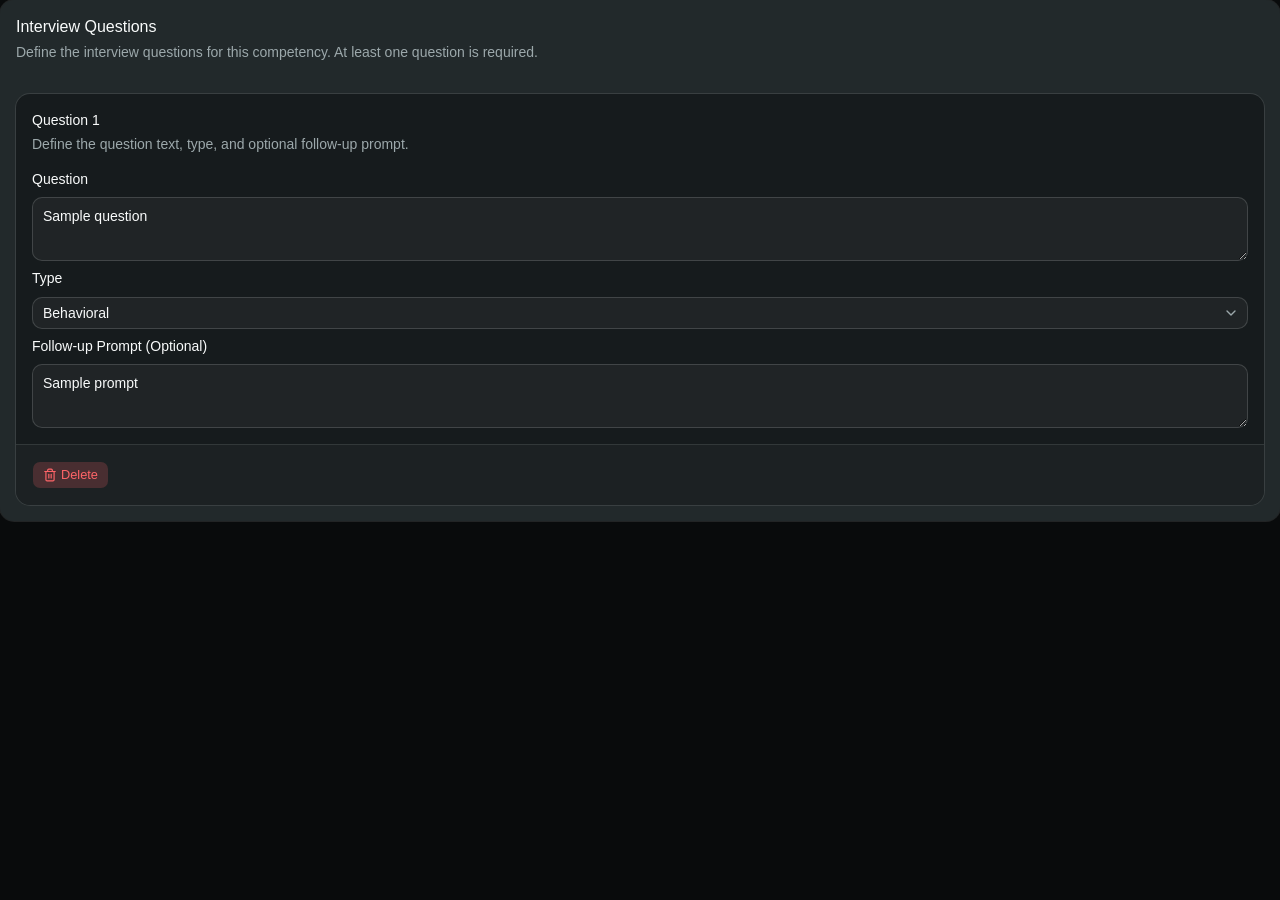
it: QuestionsFormFields › Question Deletion › should open remove confirm dialog when delete button is clicked
Click the button with test id "remove-question-button-0-0": (70, 475) [32,461,109,489]
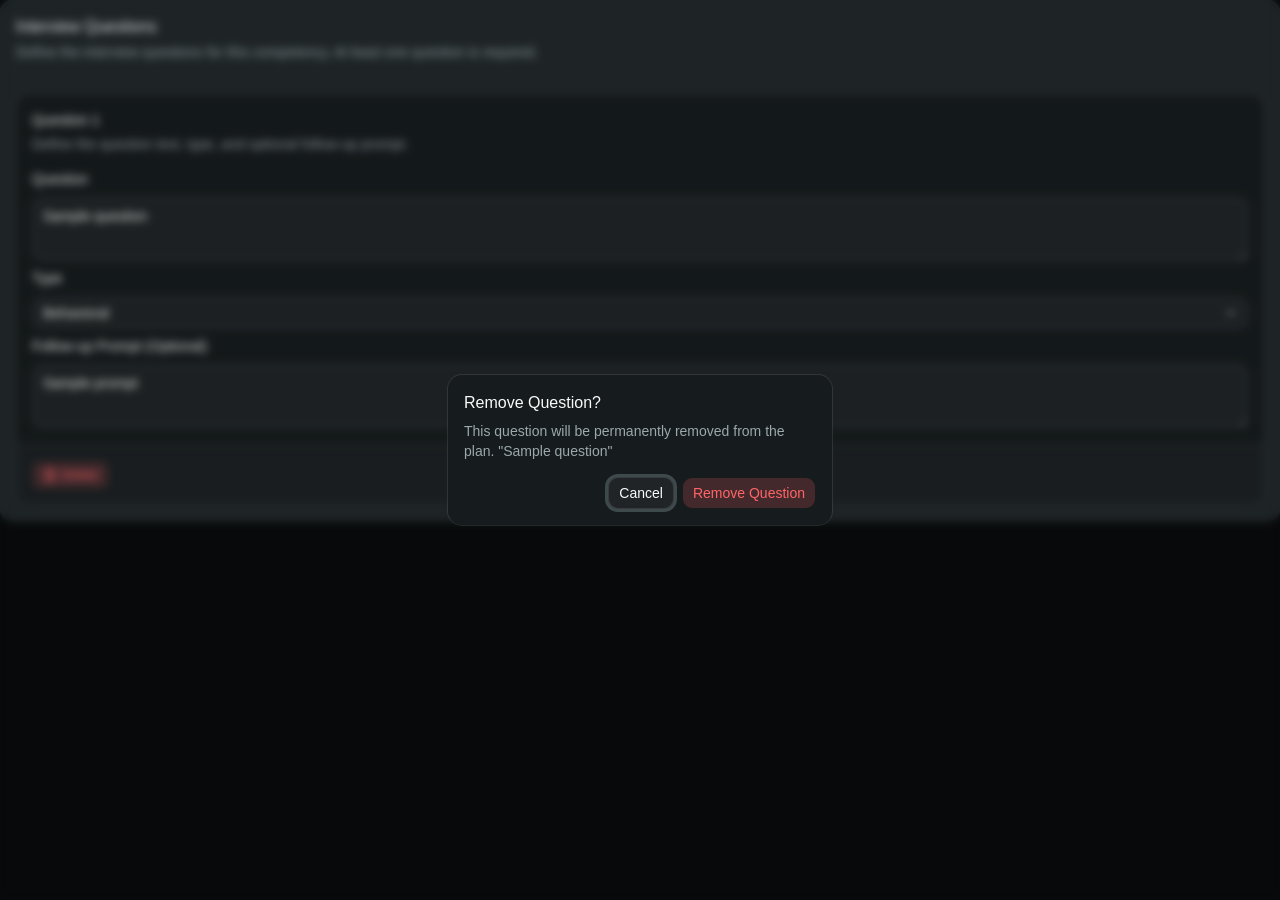
expect the dialog with test id "remove-confirm-dialog" is shown: met, box [448,375,832,525]
